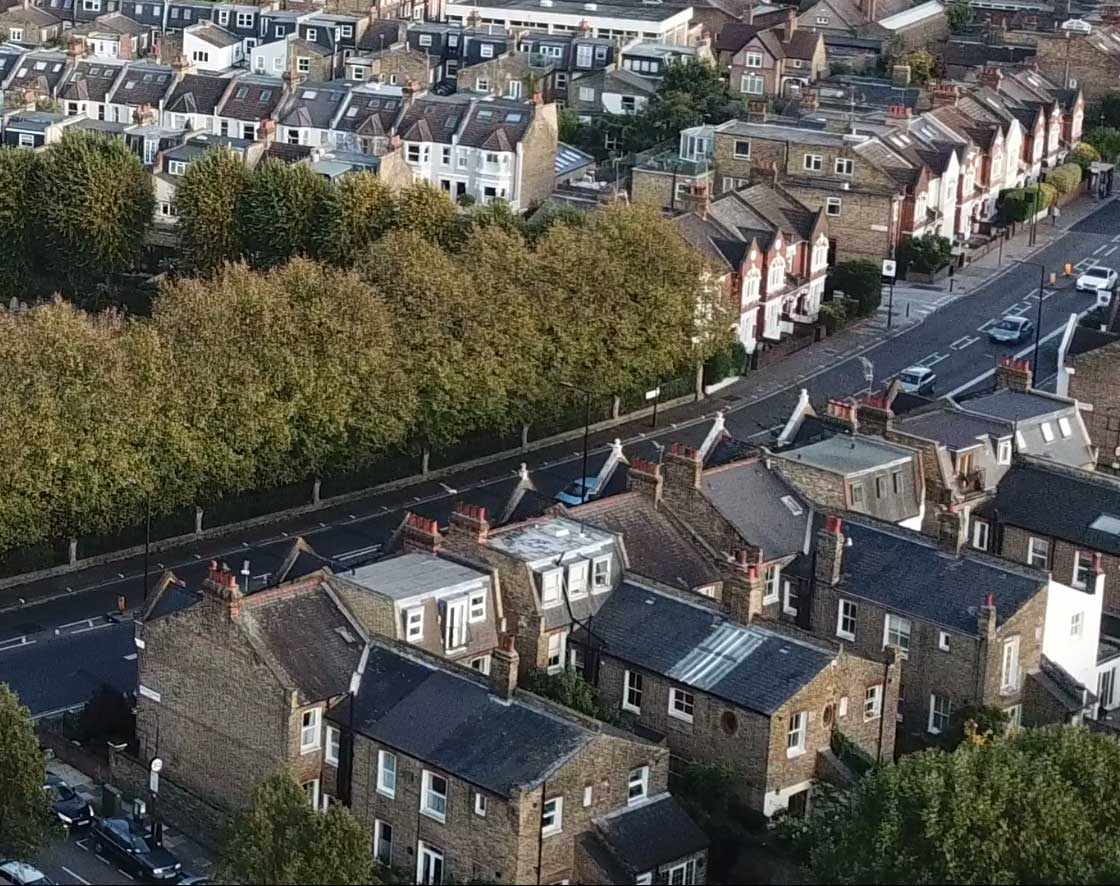car: (889, 358, 944, 399), (987, 307, 1034, 354), (1072, 262, 1120, 299)
trees: (5, 197, 695, 463)
